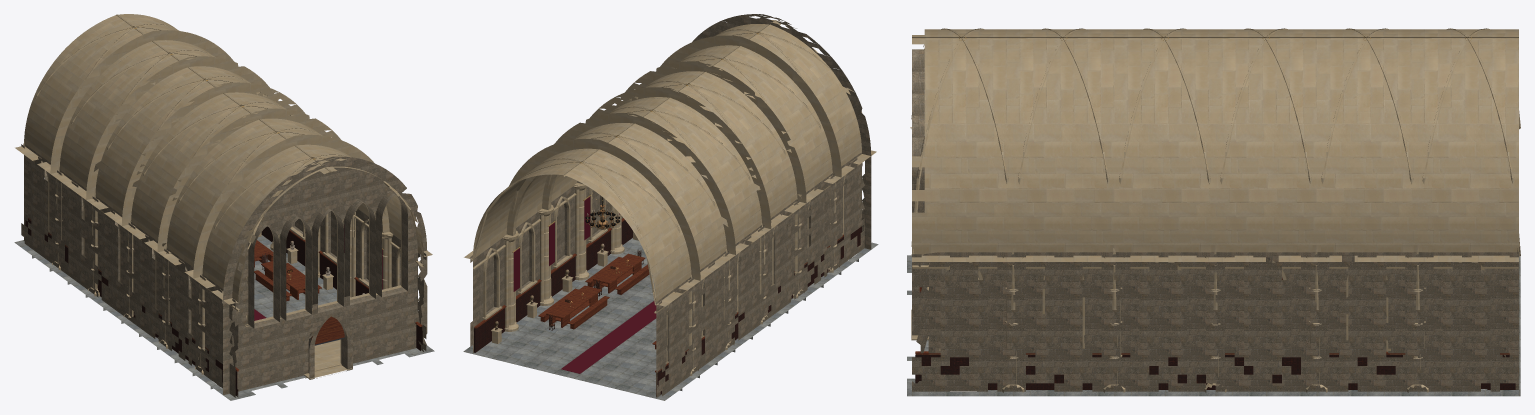
File: hall-photoreal.glb
The picture shows the model from 3 angles, left to right: view 1: azimuth 30°, elevation 25°; view 2: azimuth 150°, elevation 25°; view 3: azimuth 270°, elevation 25°; orthographic projection. The views are drawn at different scales.
Visible parts, largest first — view 1: hp_hall; view 2: hp_hall, hp_props; view 3: hp_hall.
Boxes of the visible parts, <box> form: hp_hall: <box>14,14,434,400</box>; hp_hall: <box>463,14,878,400</box>; hp_props: <box>494,197,643,330</box>; hp_hall: <box>907,28,1520,396</box>.
Bounding box in the file's own units: 19.8 × 20.03 × 36.41.
Materials: 16 (12 with a texture image).
